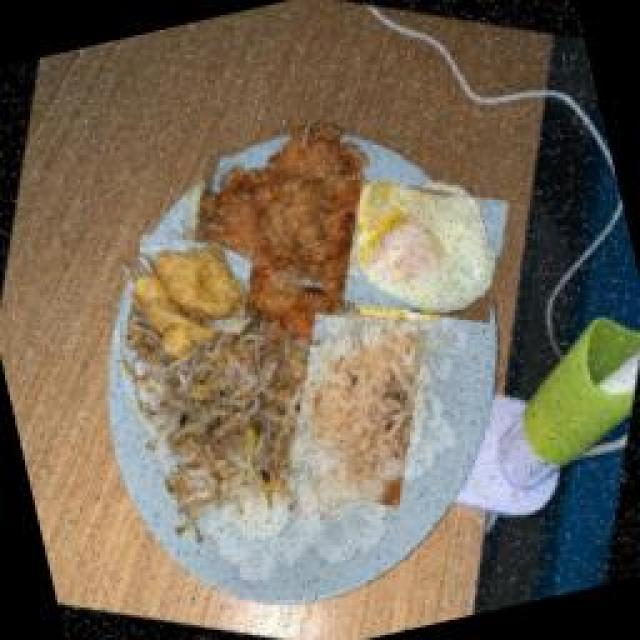chicken_nuggets: (98, 210, 278, 390)
fried_chicken: (175, 98, 435, 358)
fried_eggs: (318, 145, 531, 358)
mung_bean_sprouts: (98, 290, 343, 550)
rice: (250, 288, 465, 531)
